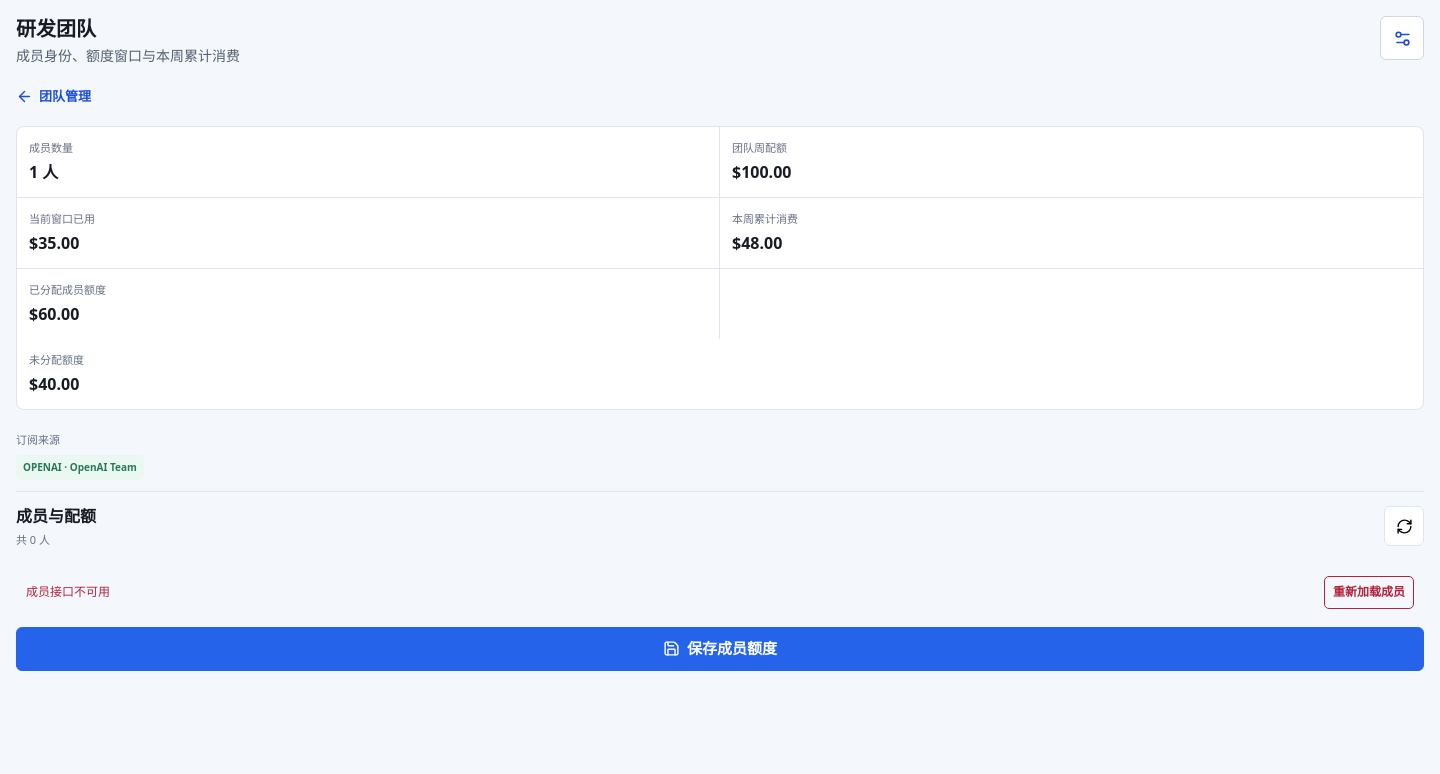
Test: MobileTeamWorkspaceView › keeps quota data visible when members fail and retries only members
Check: the element with test id "mobile-team-quota-summary" shows "$100.00", box [732, 161, 792, 183]
Check: the message with test id "mobile-team-members-error" shows "成员接口不可用", box [26, 583, 110, 600]
Click the button with test id "retry-mobile-team-members": (1369, 592) [1324, 576, 1414, 609]
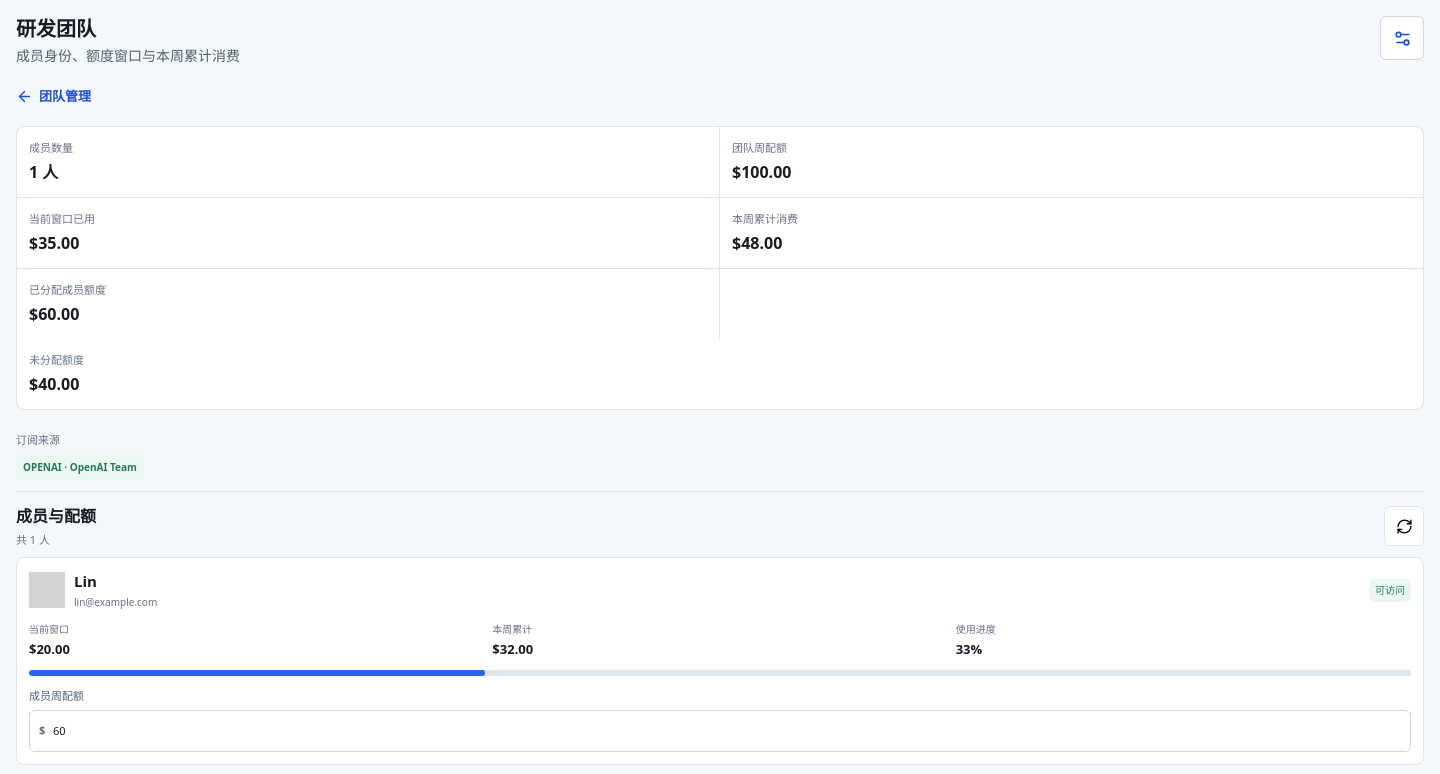
Check: the element with test id "mobile-team-member-7" shows "Lin", box [74, 571, 97, 591]
